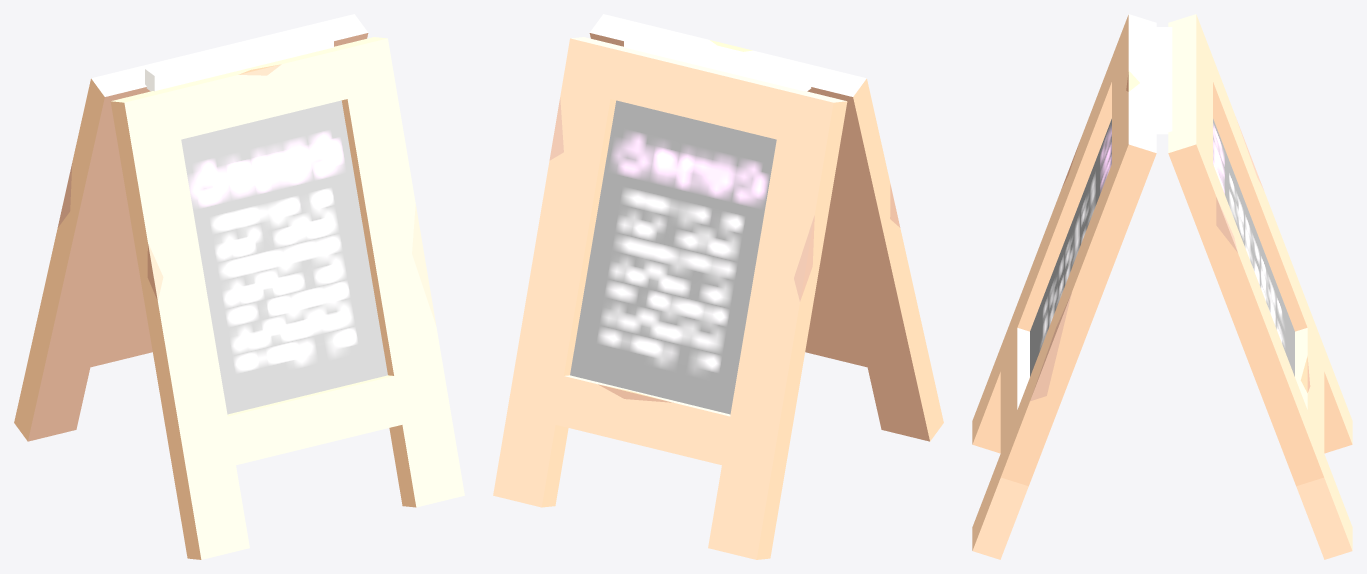
The model's file is cutepack2023menusmall 1.fbx.
The picture shows the model from 3 angles, left to right: view 1: azimuth 30°, elevation 25°; view 2: azimuth 150°, elevation 25°; view 3: azimuth 270°, elevation 25°; orthographic projection.
Parts seen in each view (by area): view 1: Cube.009, Cube.014; view 2: Cube.009, Cube.014; view 3: Cube.009, Cube.014.
Part boxes in pixels (x1,y1,x2,y2): Cube.009: (14, 14, 464, 559); Cube.014: (145, 25, 333, 91); Cube.009: (493, 14, 943, 559); Cube.014: (624, 25, 812, 91); Cube.009: (972, 14, 1352, 559); Cube.014: (1152, 27, 1172, 134).
Bounding box in the file's own units: 83.55 × 126 × 103.
